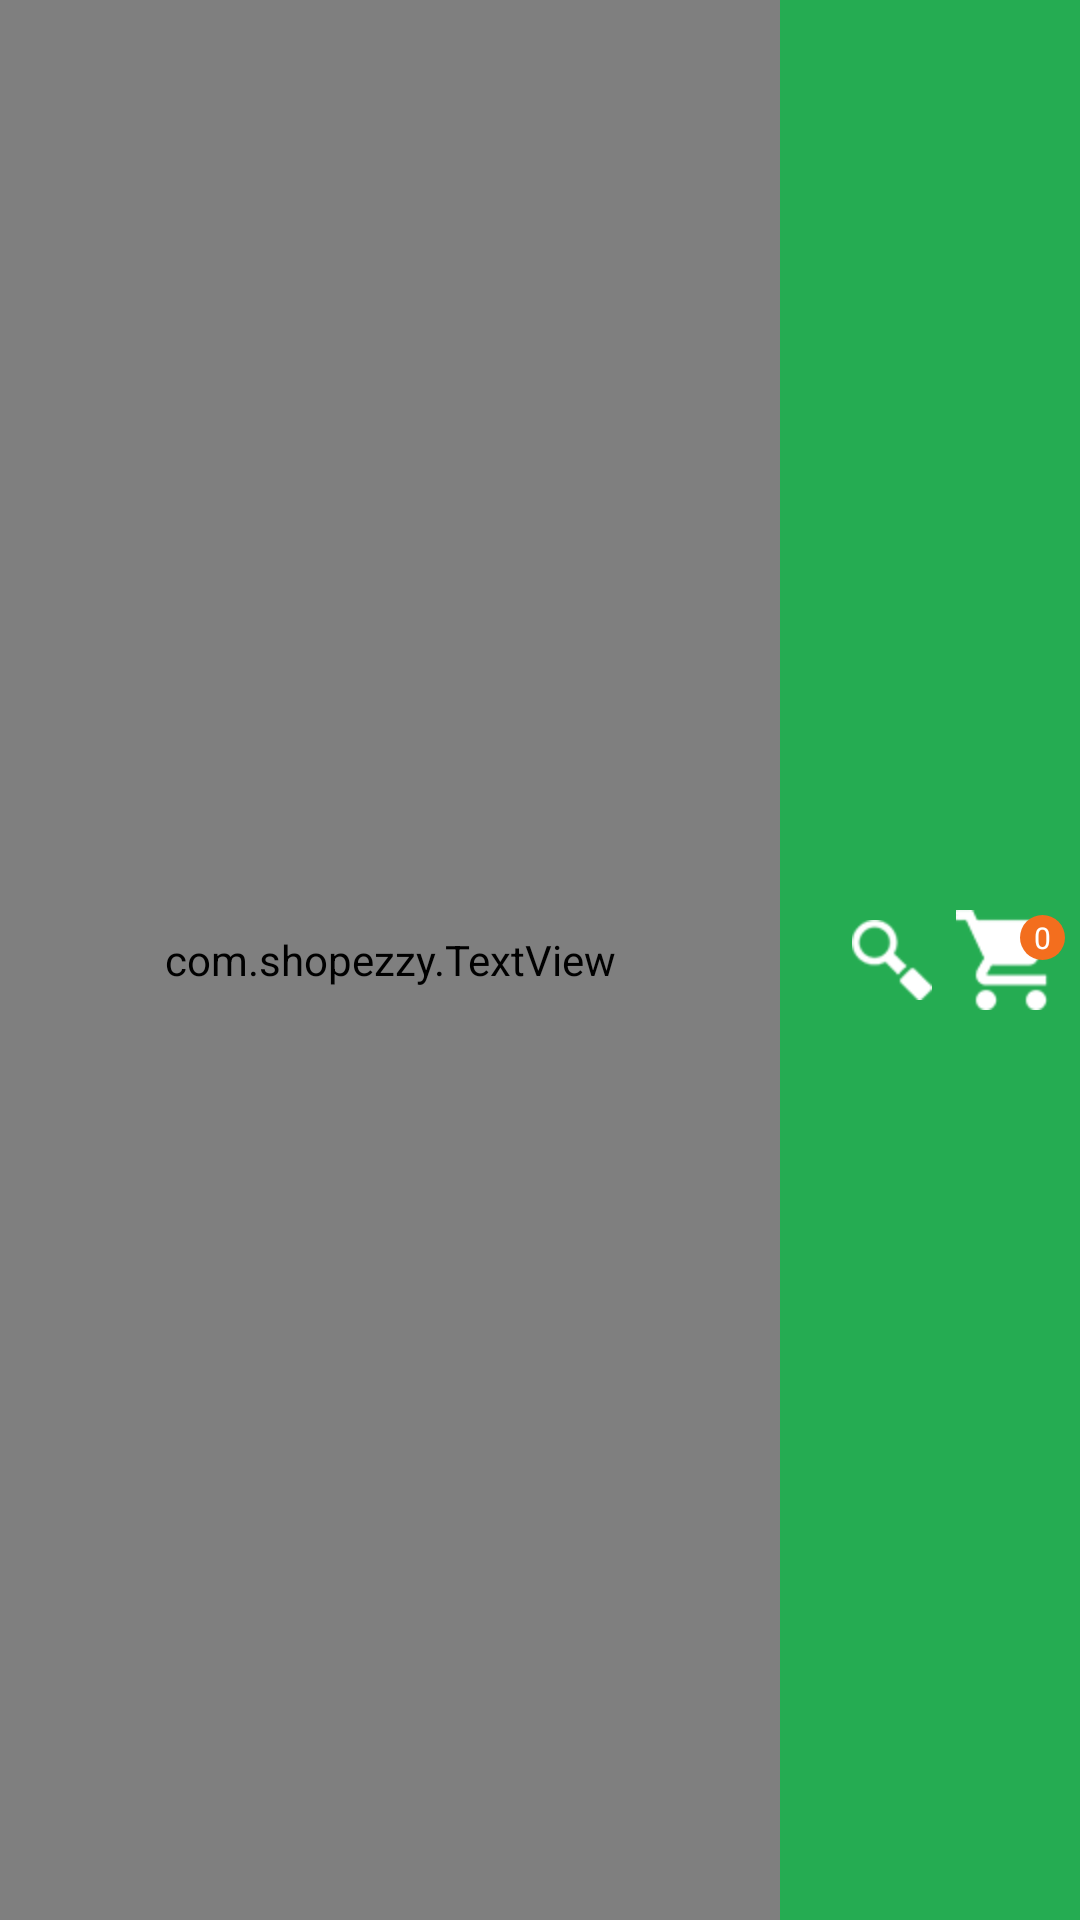

Icons on this 1080px×1920px Android screen, each with the point to tap as (x=x, y=y):
cartw: (x=1006, y=960)
search bar: (x=892, y=960)
